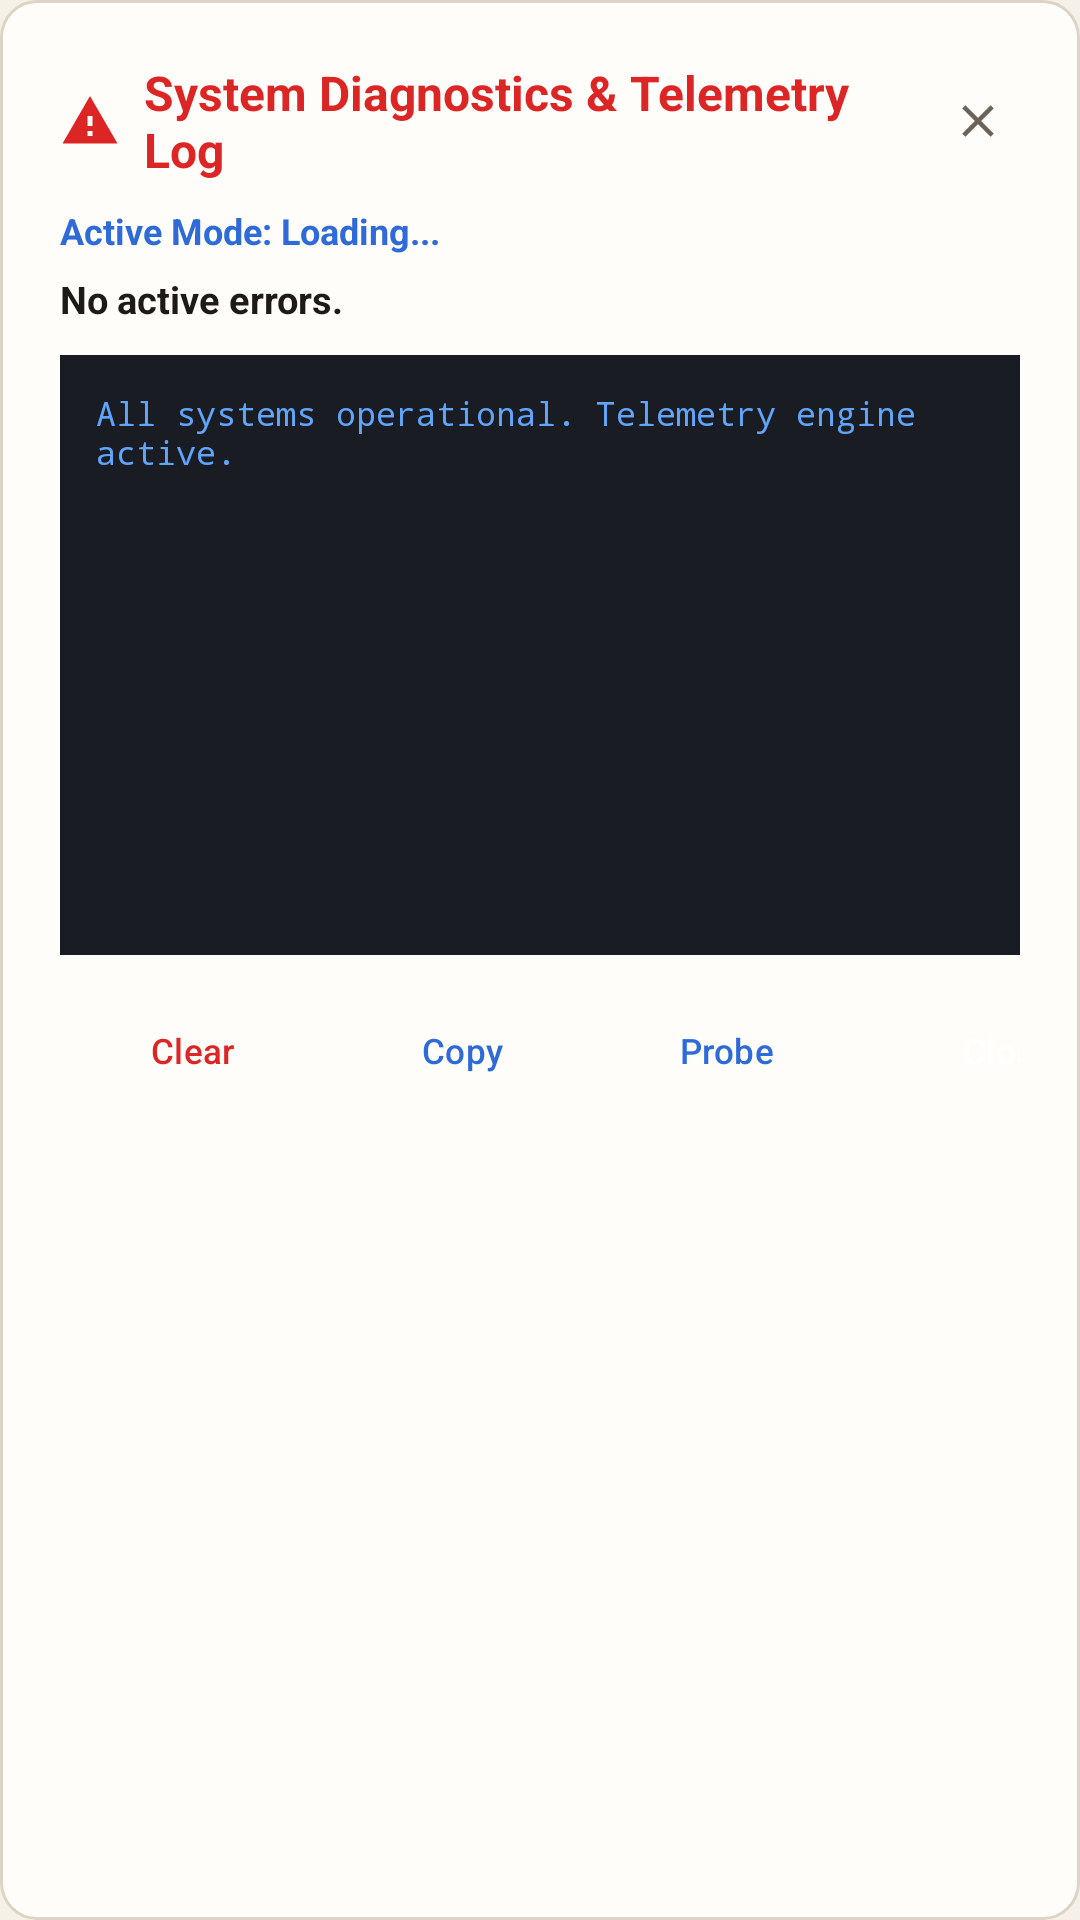

Point at icon controls on the screen. Image size 1080px x 1920px, points as point (x, y).
Close Diagnostics: point (978, 121)
Warning: point (90, 120)
